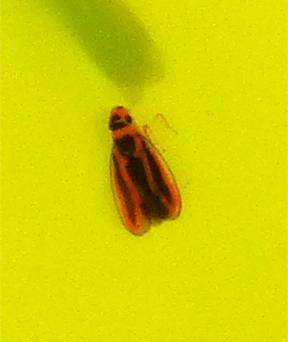Hemiptera: (100, 100, 188, 242)
